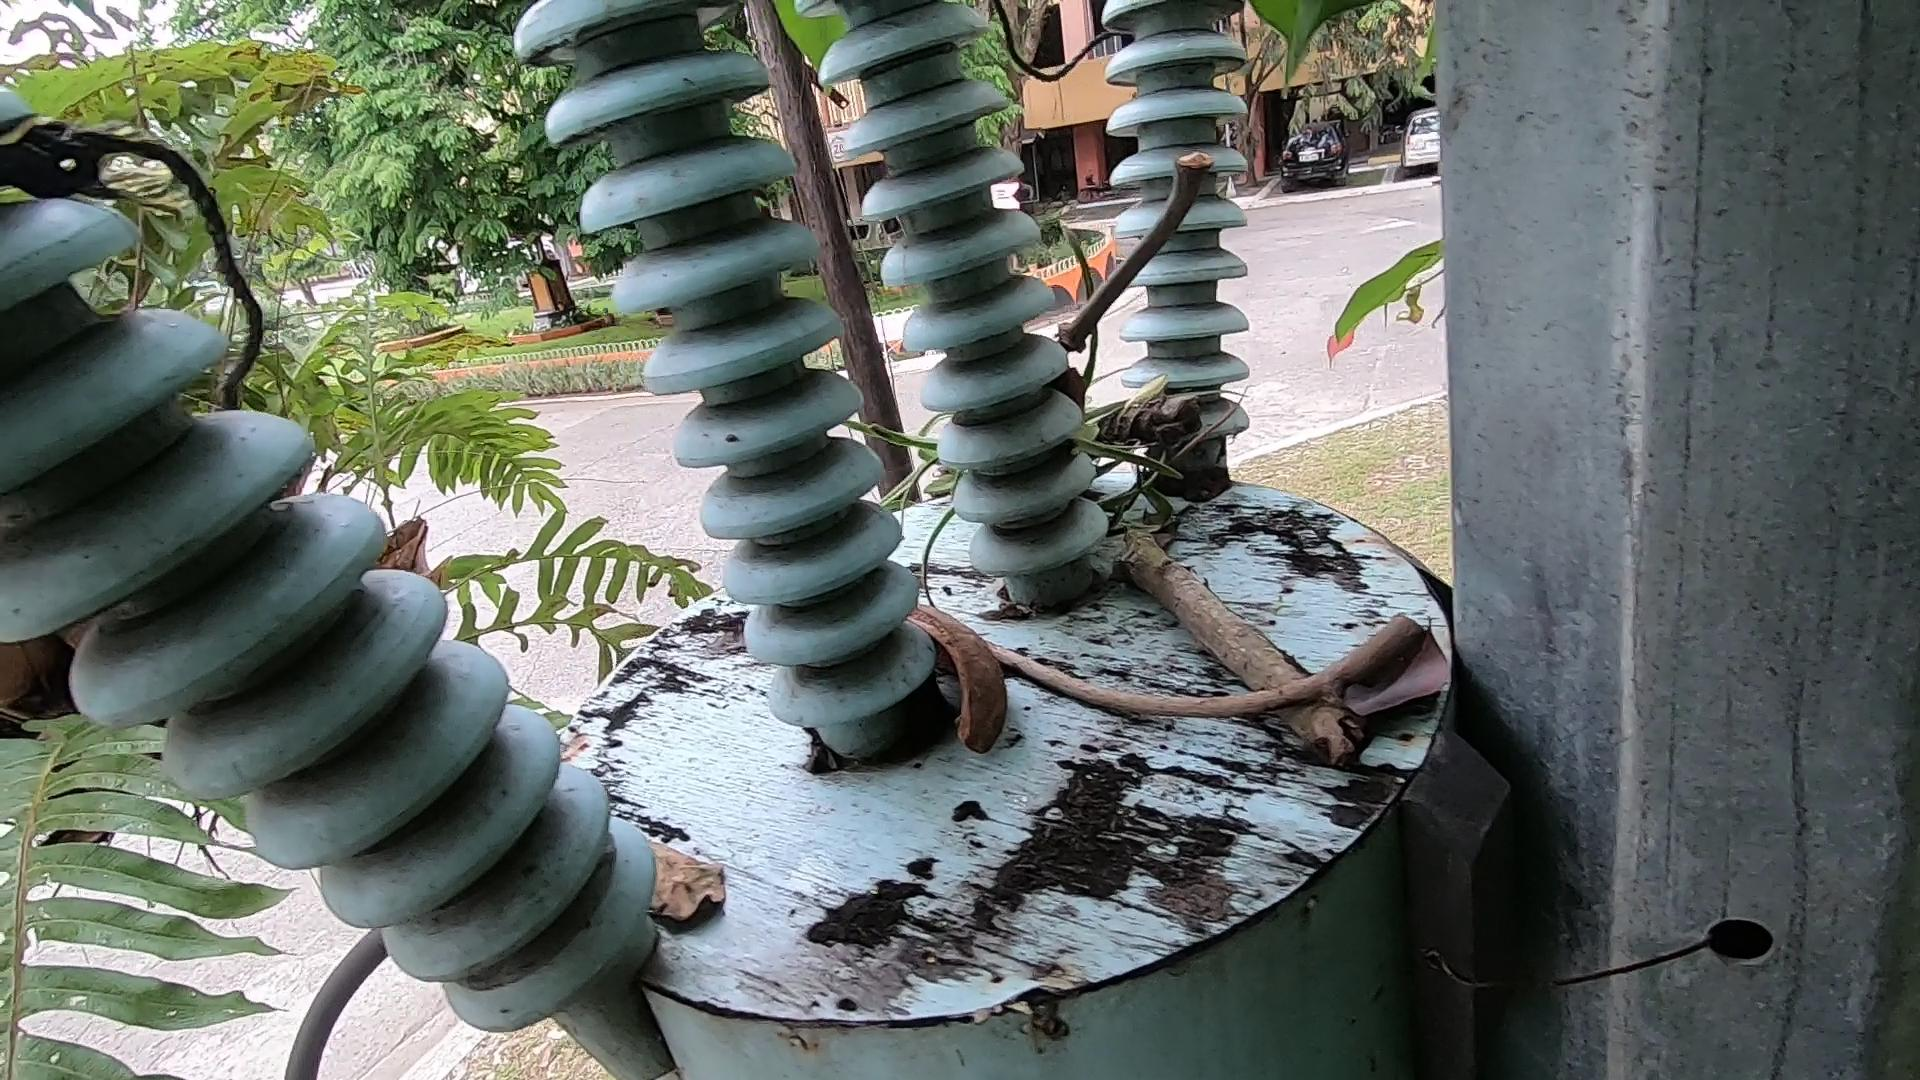branch with leaves: (1077, 375, 1385, 804)
leaf: (593, 791, 737, 938), (1323, 649, 1476, 724)
mahogany fruit: (874, 568, 1011, 753), (1064, 344, 1160, 471)
tree branch: (943, 646, 1489, 736), (1043, 96, 1224, 367)
